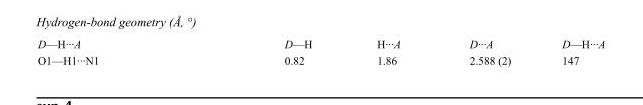table: (37, 37, 604, 66)
table column: (37, 37, 191, 66), (191, 37, 343, 66), (434, 37, 535, 66), (343, 37, 434, 66), (535, 37, 604, 66)
table row: (37, 51, 604, 66), (37, 37, 604, 51)
